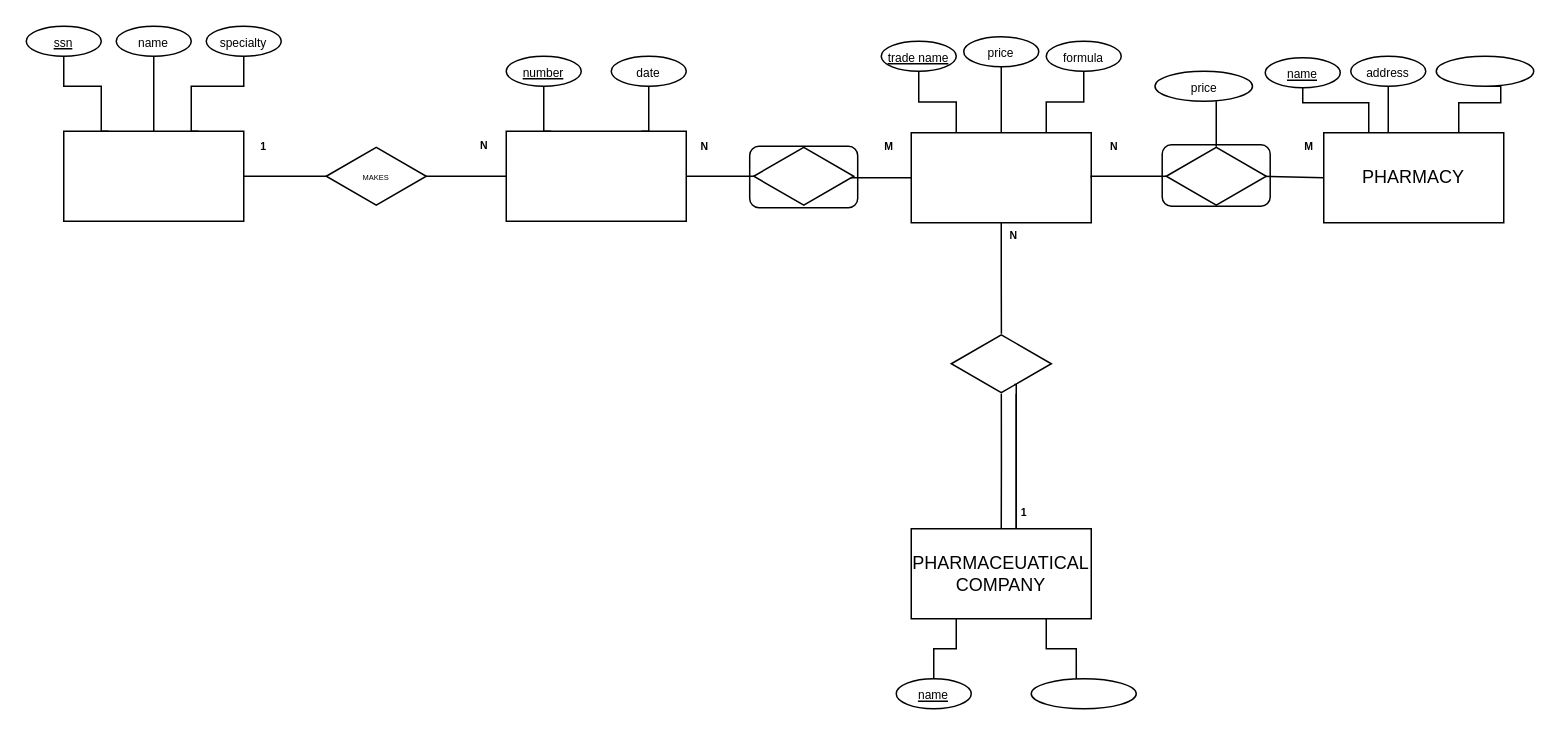
This 1560x735 diagram has some shape labels left out. The shapes that lost their labels are listed below. From the top down, each one's centre as x and y in pixels, then its label:
At (1484,70): "phone_number".
At (153,175): "DOCTOR".
At (595,175): "PRESCRIPTION".
At (803,175): "HAS".
At (1000,177): "DRUG".
At (1215,175): "SOLD BY".
At (1000,363): "MANUFACTURED BY".
At (1083,693): "phone number".
